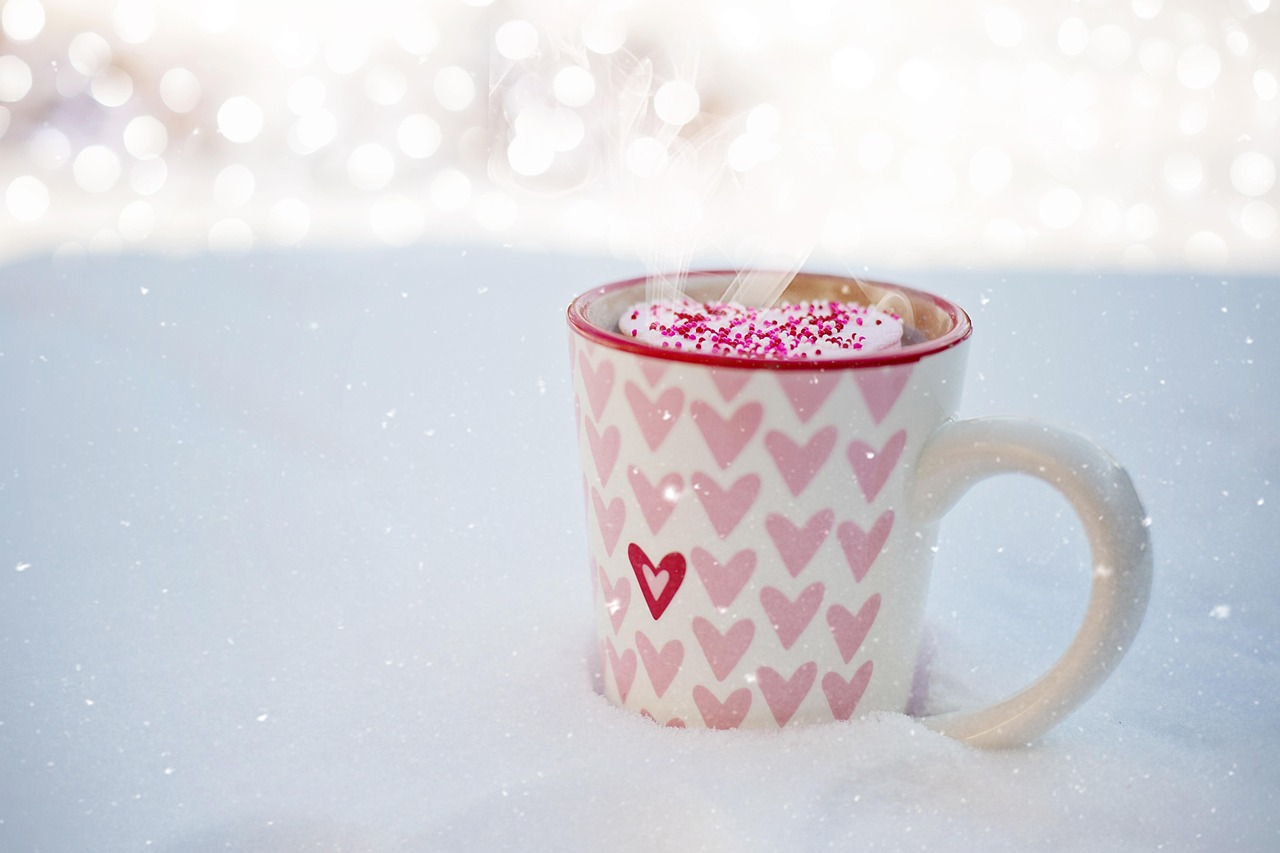mug: (540, 247, 1169, 806)
